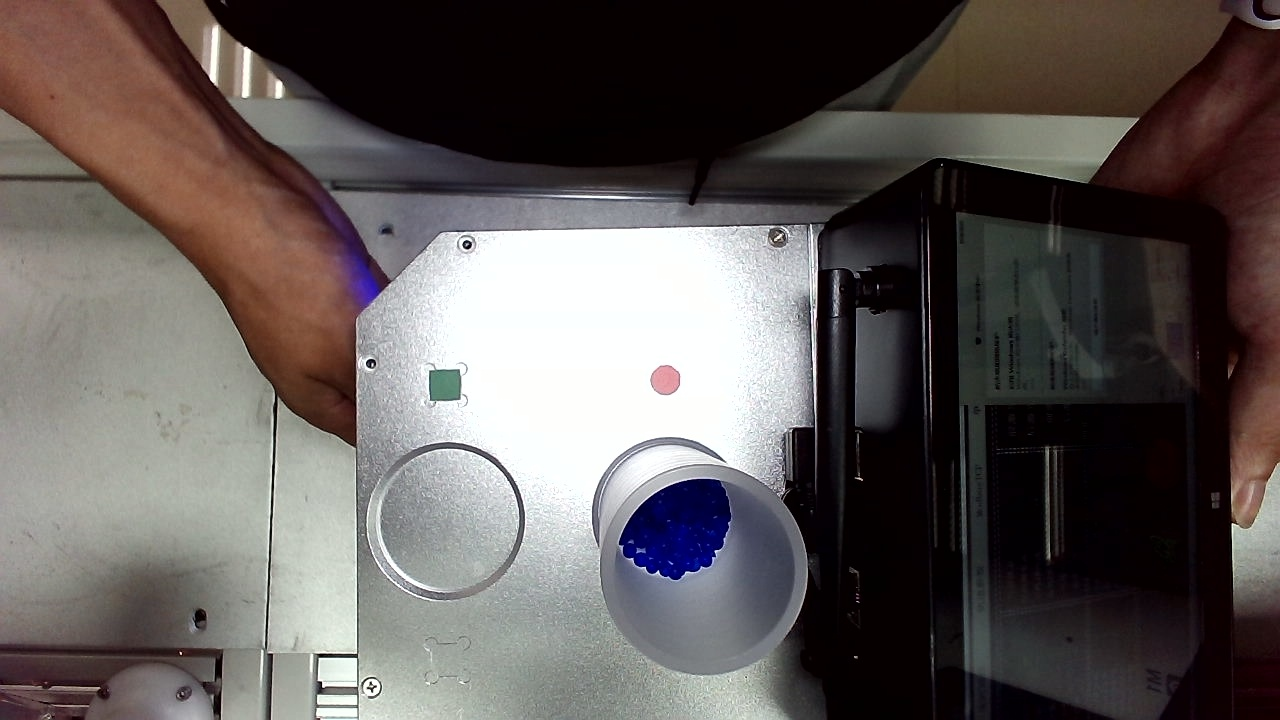bad: (839, 383, 890, 431), (256, 606, 304, 655), (784, 15, 829, 62), (266, 9, 310, 55), (815, 92, 859, 135), (261, 163, 304, 204), (747, 638, 788, 679), (765, 588, 806, 629), (748, 423, 790, 463), (813, 550, 852, 593), (420, 128, 458, 169), (578, 529, 616, 570), (832, 52, 873, 89), (362, 33, 401, 71), (442, 524, 481, 561), (260, 333, 297, 369), (801, 352, 837, 389), (806, 387, 841, 423), (802, 53, 835, 91), (404, 53, 438, 88)
defact: (687, 143, 727, 181)
pass: (578, 144, 621, 195), (658, 413, 700, 464), (386, 479, 431, 523), (394, 170, 438, 212), (288, 566, 330, 609), (616, 391, 658, 434), (833, 459, 874, 502), (545, 371, 585, 415), (264, 404, 307, 444), (690, 94, 729, 138), (598, 608, 636, 652), (763, 135, 801, 178), (412, 277, 452, 317), (619, 580, 656, 623), (857, 591, 892, 632), (616, 14, 650, 52)
toolong: (746, 483, 814, 545), (315, 72, 371, 122), (782, 436, 825, 496)
unpass: (794, 201, 844, 246), (260, 525, 308, 570), (832, 1, 875, 51), (836, 344, 880, 387), (274, 53, 317, 95), (257, 291, 301, 332), (649, 348, 688, 394), (269, 201, 314, 240), (769, 361, 808, 404), (845, 421, 889, 459), (822, 638, 862, 678), (731, 580, 768, 622), (680, 550, 717, 591), (800, 614, 836, 656), (576, 25, 610, 69), (584, 563, 622, 602), (278, 365, 319, 401), (858, 639, 897, 676), (747, 89, 780, 130), (549, 39, 581, 81), (526, 20, 561, 58), (804, 420, 840, 455), (589, 2, 623, 39)
